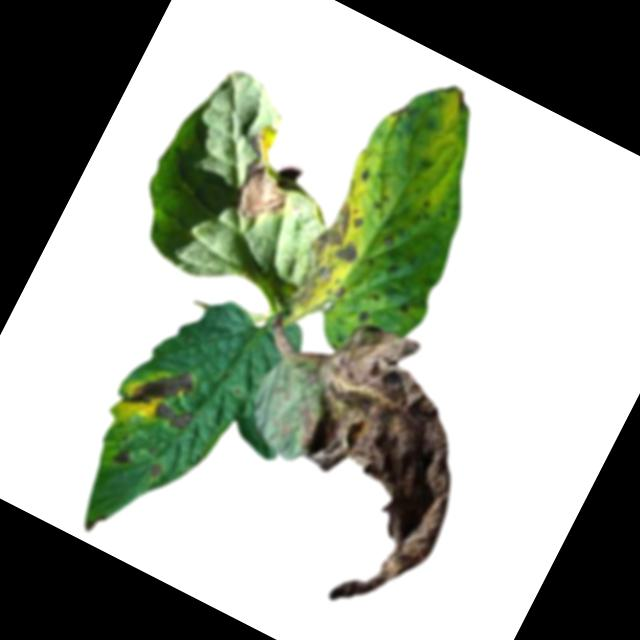Early_blight: (214, 305, 512, 630), (281, 196, 377, 323), (211, 117, 313, 233), (119, 350, 203, 433), (149, 396, 197, 437), (435, 80, 476, 117), (109, 442, 138, 472), (389, 296, 415, 321), (146, 462, 167, 483)
